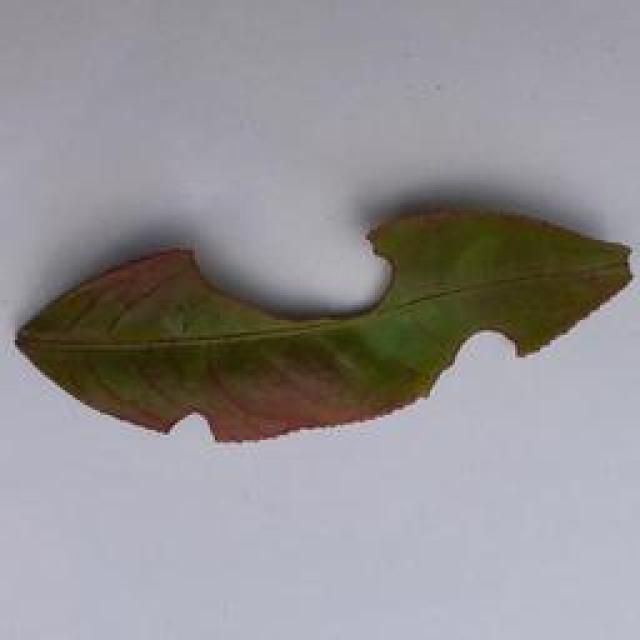Red Leaf Spot: (0, 188, 633, 448)
